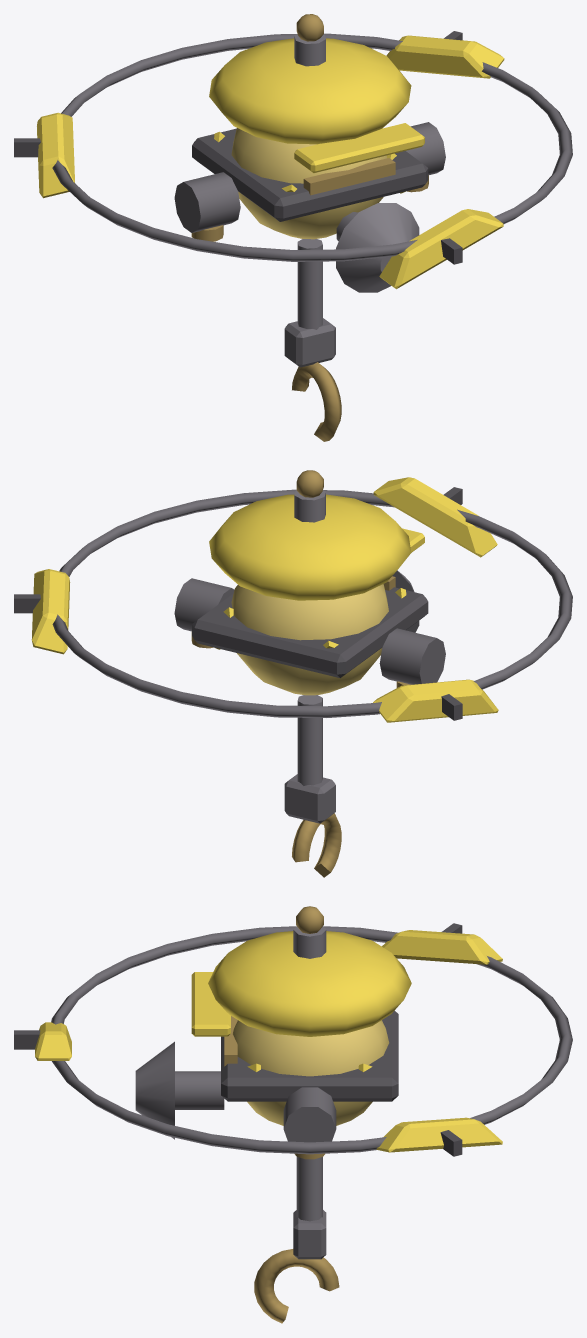
The model's file is foreman.glb.
3 renders of one model, top to bottom at view 1: azimuth 30°, elevation 25°; view 2: azimuth 150°, elevation 25°; view 3: azimuth 270°, elevation 25°, orthographic.
Visible parts, largest first — view 1: hazard.004, gunmetal.004, gunmetal*0.6, foreman*1.2, gunmetal*1.001, hazard.006, hazard.007, hazard.005, gunmetal.002, hazard.008, gunmetal*1.002, gunmetal.003 (+5 smaller); view 2: hazard.004, gunmetal.004, foreman*1.2, gunmetal*0.6, hazard.006, hazard.008, gunmetal.002, hazard.007, gunmetal*1.002, gunmetal.003, glow*0.005, gunmetal.001 (+2 smaller); view 3: hazard.004, gunmetal.004, foreman*1.2, gunmetal*0.6, hazard.008, hazard.007, gunmetal.001, gunmetal*1.001, glow*0.005, hazard.005, gunmetal, gunmetal*1.002 (+4 smaller).
Part boxes in pixels (box(x1,y1,x2,y2)): hazard.004: box(209, 38, 411, 144); gunmetal.004: box(52, 33, 572, 261); gunmetal*0.6: box(192, 128, 428, 221); foreman*1.2: box(231, 128, 386, 239); gunmetal*1.001: box(336, 203, 419, 292); hazard.006: box(379, 209, 503, 289); hazard.007: box(386, 35, 504, 78); hazard.005: box(294, 123, 424, 173); gunmetal.002: box(174, 172, 240, 232); hazard.008: box(37, 112, 74, 198); gunmetal*1.002: box(297, 239, 322, 329); gunmetal.003: box(284, 318, 335, 367); hazard.004: box(209, 494, 411, 600); gunmetal.004: box(52, 489, 572, 717); foreman*1.2: box(231, 584, 388, 695); gunmetal*0.6: box(192, 587, 428, 678); hazard.006: box(373, 477, 497, 557); hazard.008: box(373, 679, 498, 722); gunmetal.002: box(379, 628, 445, 684); hazard.007: box(31, 569, 70, 654); gunmetal*1.002: box(297, 695, 322, 785); gunmetal.003: box(284, 774, 335, 823); glow*0.005: box(292, 813, 341, 877); gunmetal.001: box(174, 578, 234, 631); hazard.004: box(208, 931, 411, 1036); gunmetal.004: box(51, 926, 572, 1154); foreman*1.2: box(233, 1020, 389, 1125); gunmetal*0.6: box(221, 1010, 398, 1101); hazard.008: box(382, 930, 502, 964); hazard.007: box(376, 1117, 502, 1152); gunmetal.001: box(283, 1087, 336, 1142); gunmetal*1.001: box(135, 1041, 174, 1139); glow*0.005: box(254, 1249, 339, 1323); hazard.005: box(191, 972, 230, 1036); gunmetal: box(175, 1071, 224, 1109); gunmetal*1.002: box(296, 1157, 322, 1221).
Size of the model in its own units: 1.62 by 1.4 by 1.7.
